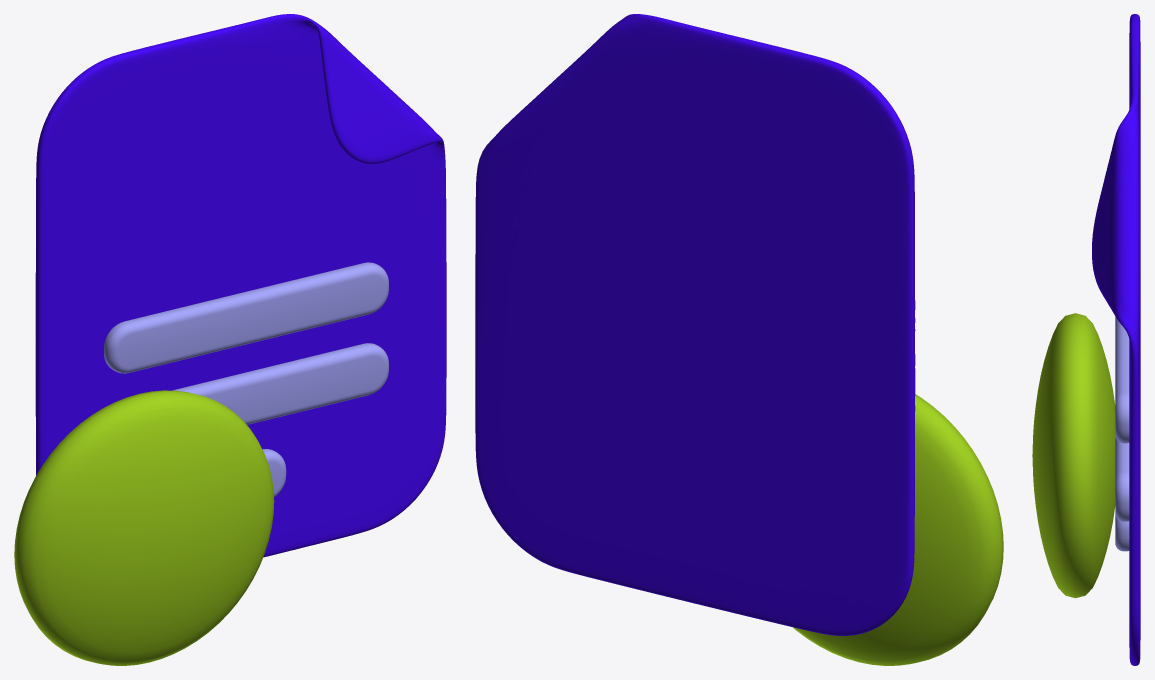
The model's file is uploading-file-3d-animated-icon-1079482648765.glb.
3 views of the same model, side by side, from view 1: azimuth 30°, elevation 25°; view 2: azimuth 150°, elevation 25°; view 3: azimuth 270°, elevation 25° (orthographic). The views are drawn at different scales.
Visible parts, largest first — view 1: File Base.001, Icon Base.001, Text.005; view 2: File Base.001, Icon Base.001; view 3: Icon Base.001, File Base.001, Text.005.
Part boxes in pixels (x1,y1,x2,y2): File Base.001: (35,14,446,557); Icon Base.001: (14,390,274,665); Text.005: (104,262,388,496); File Base.001: (475,14,915,635); Icon Base.001: (792,394,1003,665); Icon Base.001: (1032,313,1115,598); File Base.001: (1092,14,1140,665); Text.005: (1115,317,1129,551).
Size of what is drawn, in the model's own units: 1.79 by 2.17 by 0.3746.
